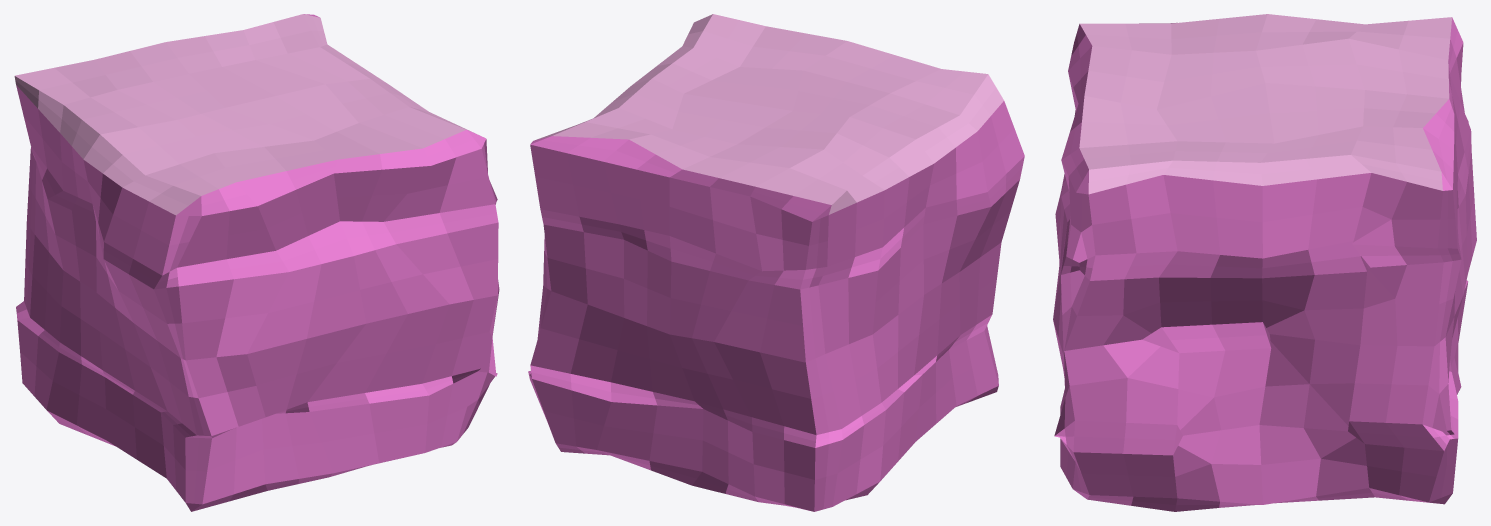
The picture shows the model from 3 angles, left to right: view 1: azimuth 30°, elevation 25°; view 2: azimuth 150°, elevation 25°; view 3: azimuth 270°, elevation 25°; orthographic projection. The views are drawn at different scales.
Parts seen in each view (by area): view 1: Cube; view 2: Cube; view 3: Cube.
Boxes of the visible parts, x1,y1,x2,y2 form: Cube: [14, 14, 499, 511]; Cube: [528, 14, 1024, 511]; Cube: [1053, 14, 1476, 511].
Bounding box in the file's own units: 230 × 208 × 224.
